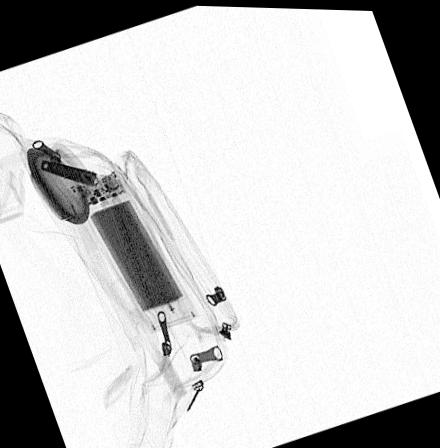Powerbank: (66, 162, 201, 333)
